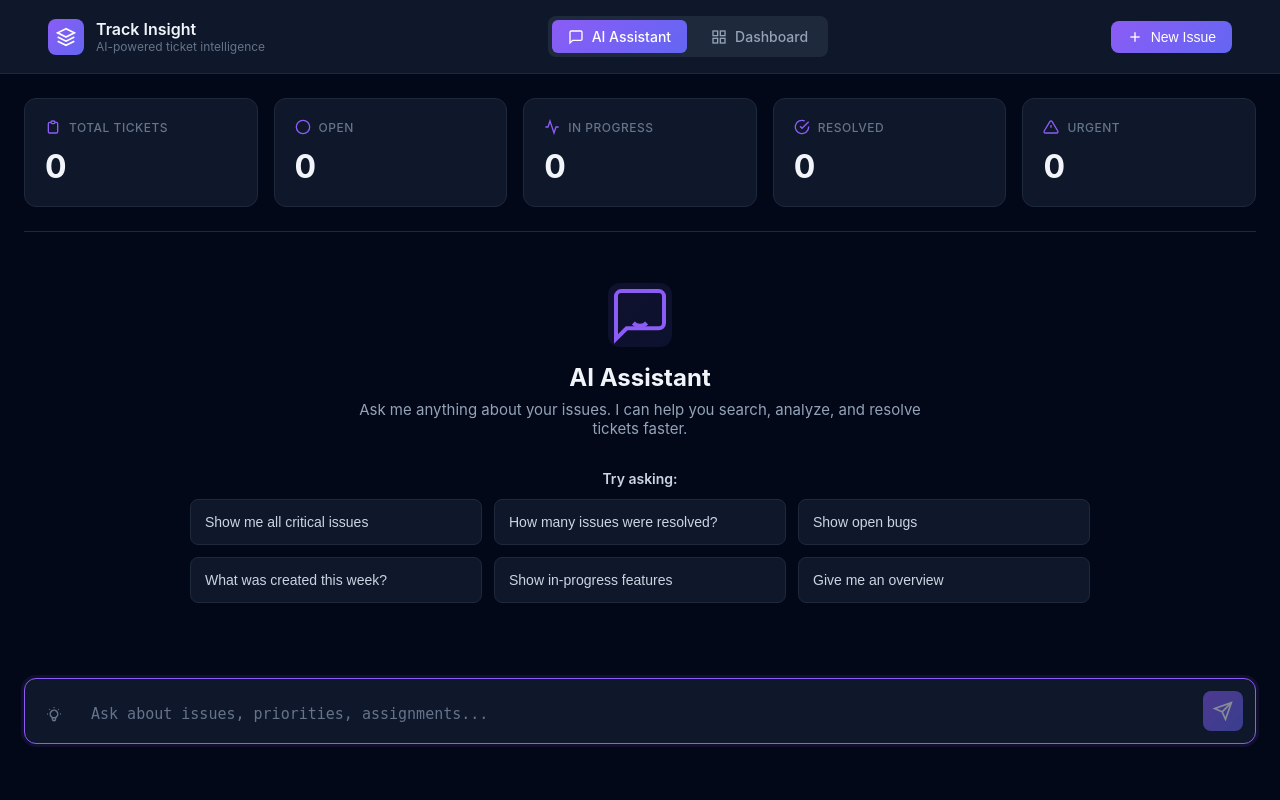
Test: AIAssistant.vue › shows assistant response after API returns
Type "Show open issues" into the text box with placeholder "Ask about issues, priorities, assignments..." at (637, 714), box [83, 697, 1191, 731]
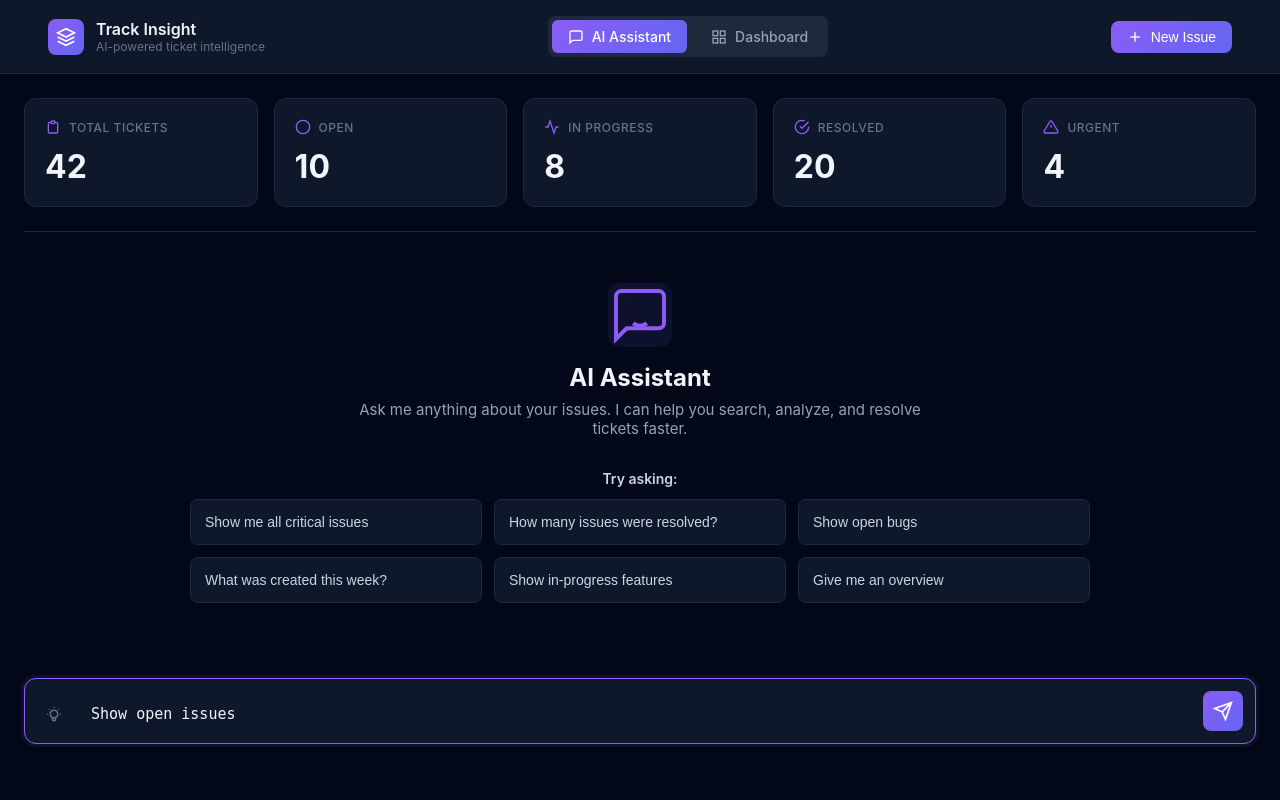
Click the button with class "btn-send" at (1223, 711), box [1203, 691, 1243, 731]
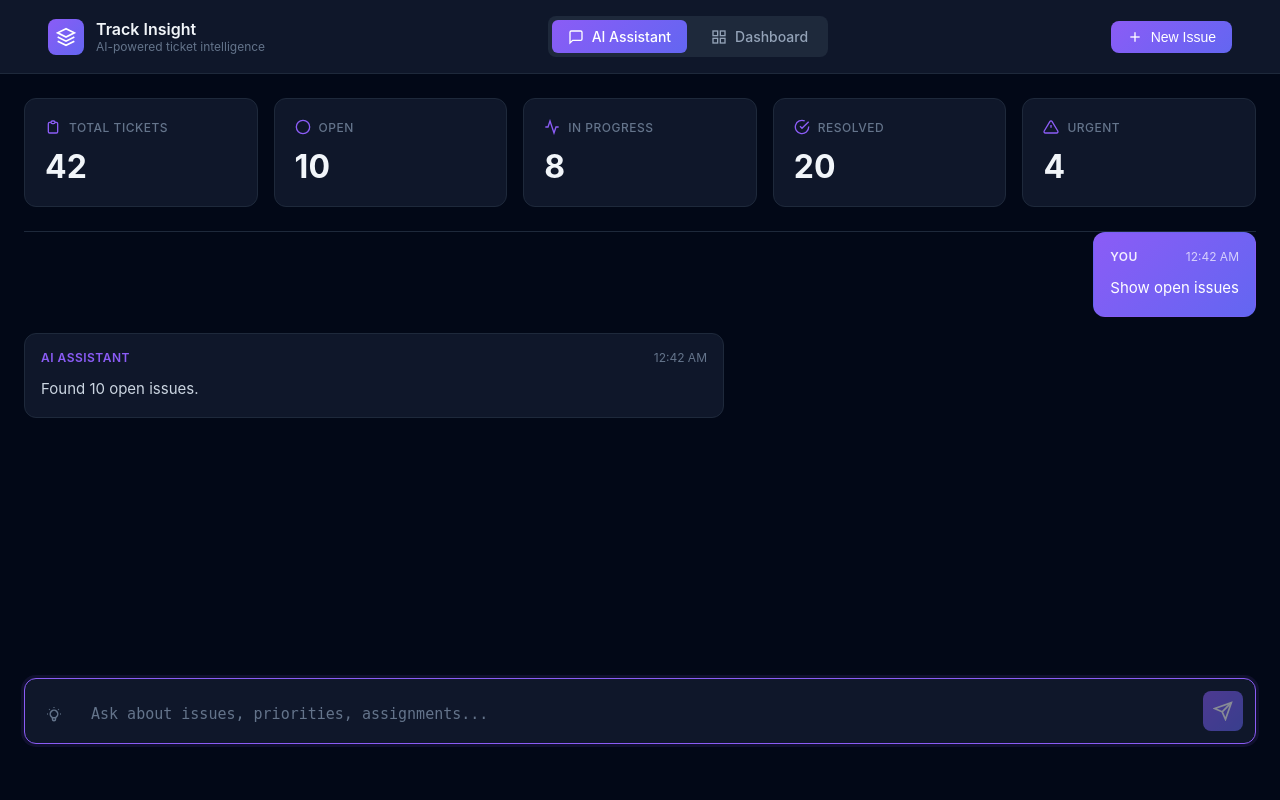
Expected: the number of elements with class "message" is 2, [1093, 232, 1256, 317]; [24, 333, 724, 418]
Expected: the element with class "message" shows "Found 10 open issues.", [41, 379, 198, 398]
